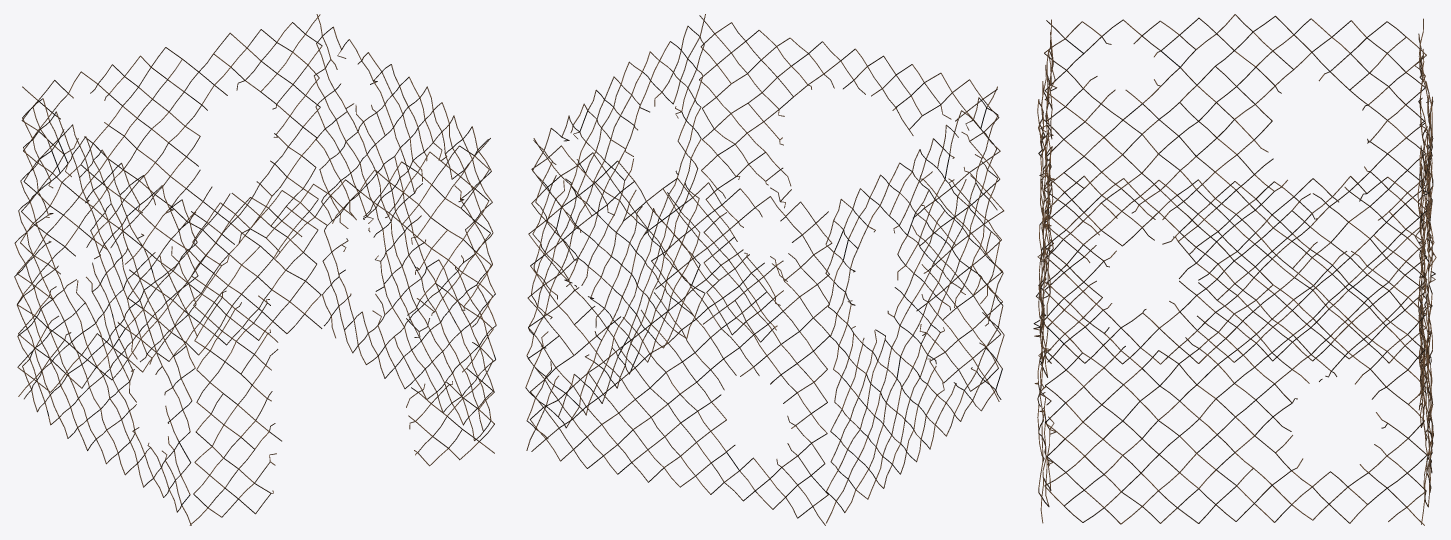
File: 07_破損菱形鐵網_通行洞口_10x10.glb
The picture shows the model from 3 angles, left to right: view 1: azimuth 30°, elevation 25°; view 2: azimuth 150°, elevation 25°; view 3: azimuth 270°, elevation 25°; orthographic projection. The views are drawn at different scales.
Parts seen in each view (by area): view 1: cube62.001, cube63.001, cube61.001, cube60.001; view 2: cube62.001, cube63.001, cube61.001, cube60.001; view 3: cube61.001, cube63.001, cube62.001, cube60.001.
Boxes of the visible parts, <box> form: cube62.001: <box>16,14,322,396</box>; cube63.001: <box>14,98,198,525</box>; cube61.001: <box>314,14,496,440</box>; cube60.001: <box>189,138,494,525</box>; cube62.001: <box>527,138,832,525</box>; cube63.001: <box>825,86,1004,523</box>; cube61.001: <box>525,14,705,450</box>; cube60.001: <box>699,15,1004,401</box>; cube61.001: <box>1044,175,1427,525</box>; cube63.001: <box>1044,14,1427,364</box>; cube62.001: <box>1414,18,1436,524</box>; cube60.001: <box>1033,19,1057,523</box>.
Size of the model in its own units: 2.65 by 2.53 by 2.66.
4 materials, 4 textured.
